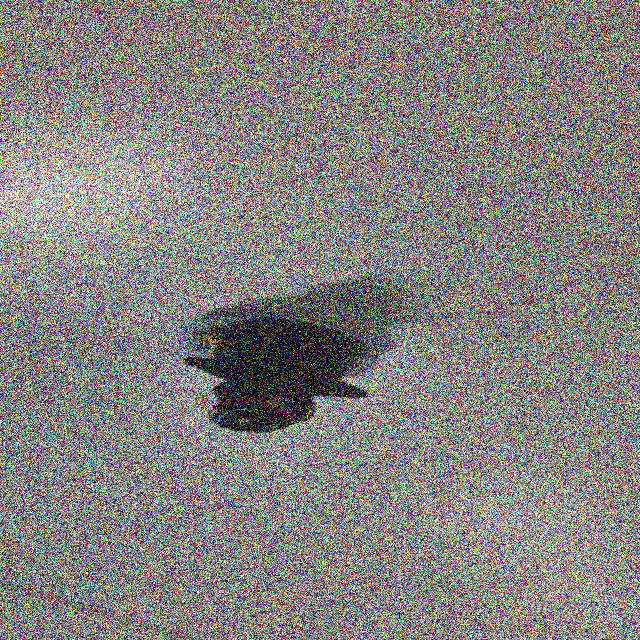Penguin: (183, 302, 376, 438)
